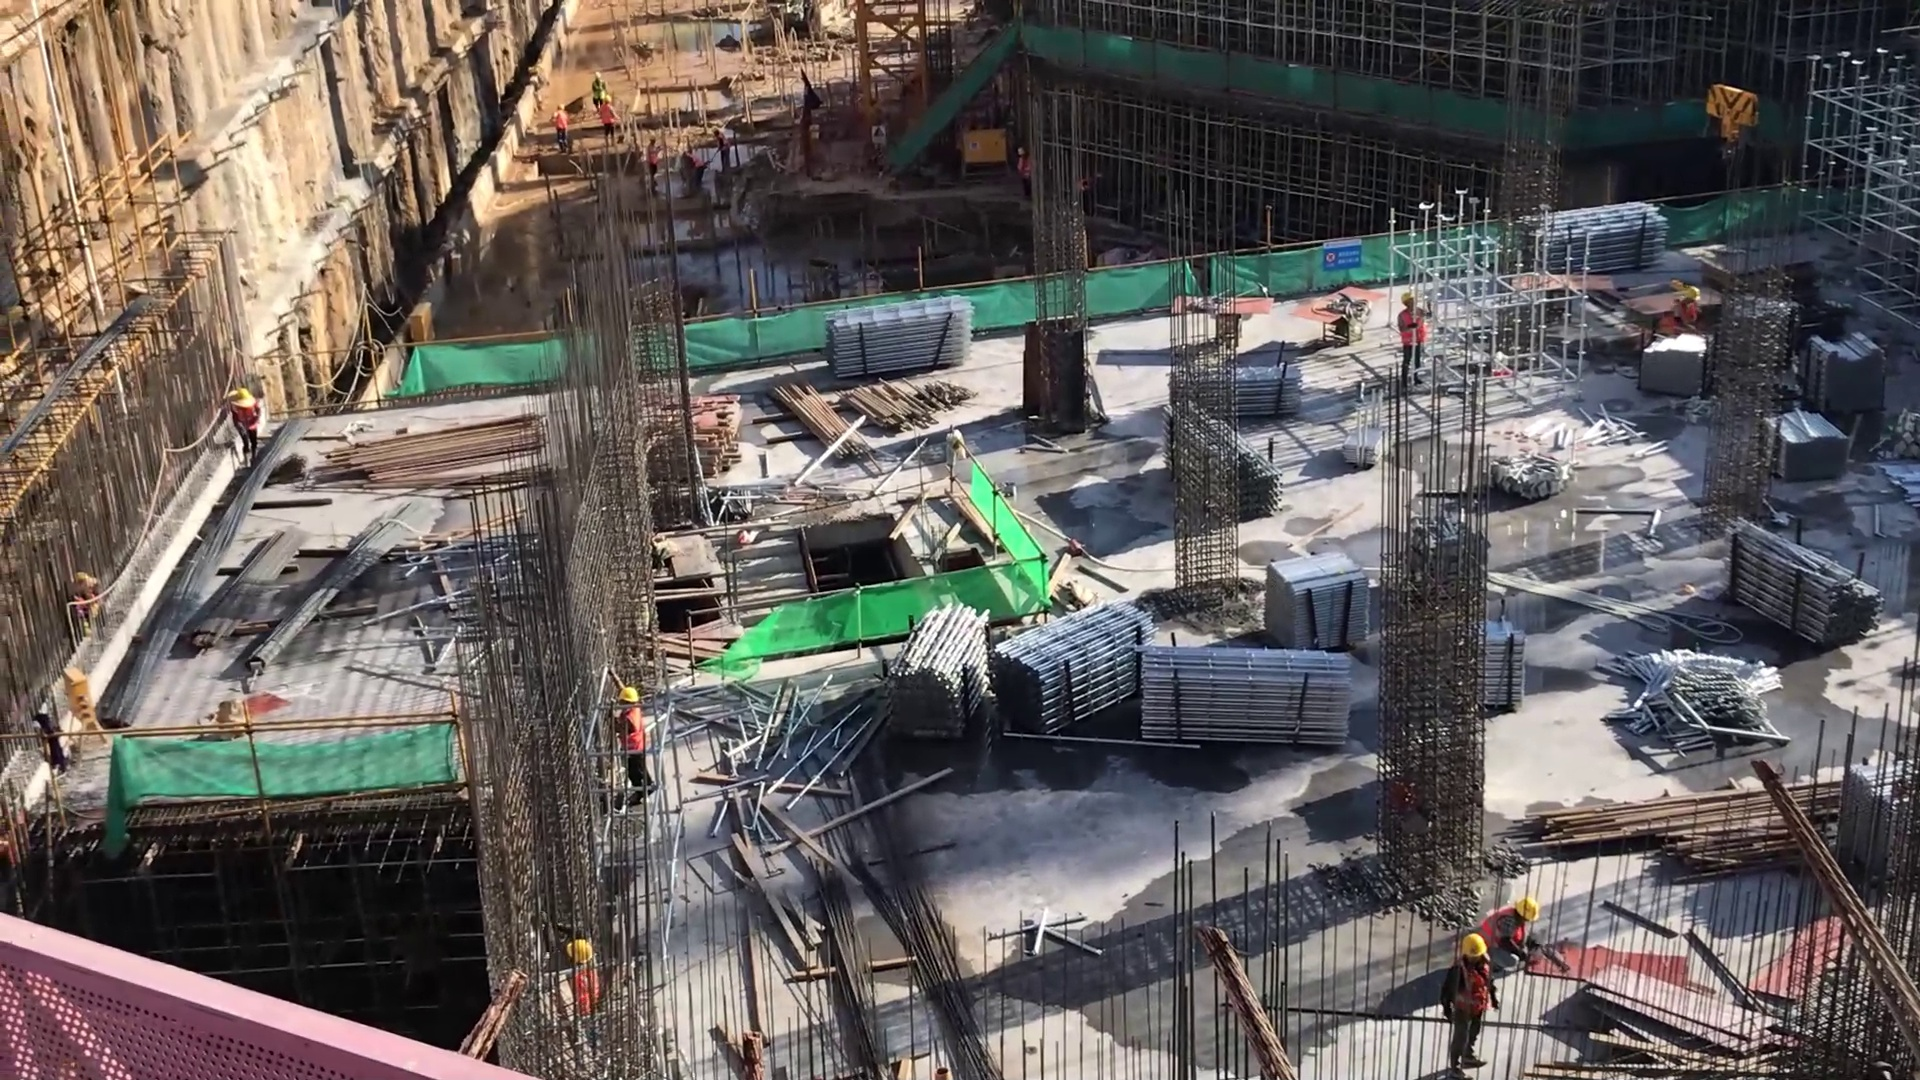cutter: (1283, 283, 1392, 349), (1170, 286, 1276, 349)
ebox: (948, 124, 1015, 195)
helmet: (1451, 931, 1490, 965), (562, 937, 598, 970), (1510, 890, 1540, 926), (612, 684, 642, 711), (1676, 282, 1707, 306), (1400, 289, 1421, 310)
hook: (1693, 76, 1762, 181)
person: (1438, 932, 1503, 1076), (603, 677, 664, 810), (1472, 890, 1545, 976), (558, 932, 603, 1039), (1392, 289, 1436, 383), (220, 387, 267, 474), (1645, 282, 1703, 349)
scaffold: (993, 591, 1165, 759), (1128, 637, 1361, 759), (1717, 512, 1883, 660), (879, 599, 1004, 745), (817, 288, 982, 396), (1254, 541, 1372, 656), (1536, 205, 1669, 282), (1815, 338, 1885, 431), (1764, 413, 1853, 484), (1229, 367, 1318, 414)
vest: (1448, 961, 1493, 1019), (1480, 907, 1530, 958), (612, 710, 653, 765), (1653, 303, 1704, 344), (568, 967, 602, 1014), (1396, 309, 1430, 357), (229, 407, 258, 432)
